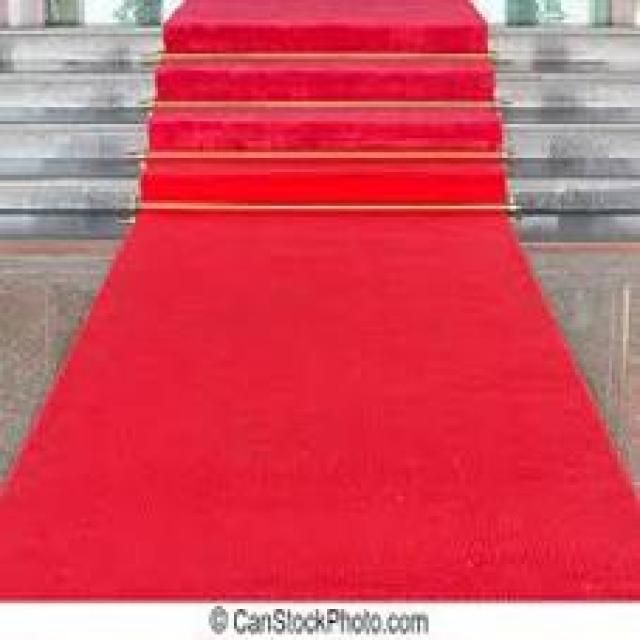stair: (138, 20, 525, 231)
